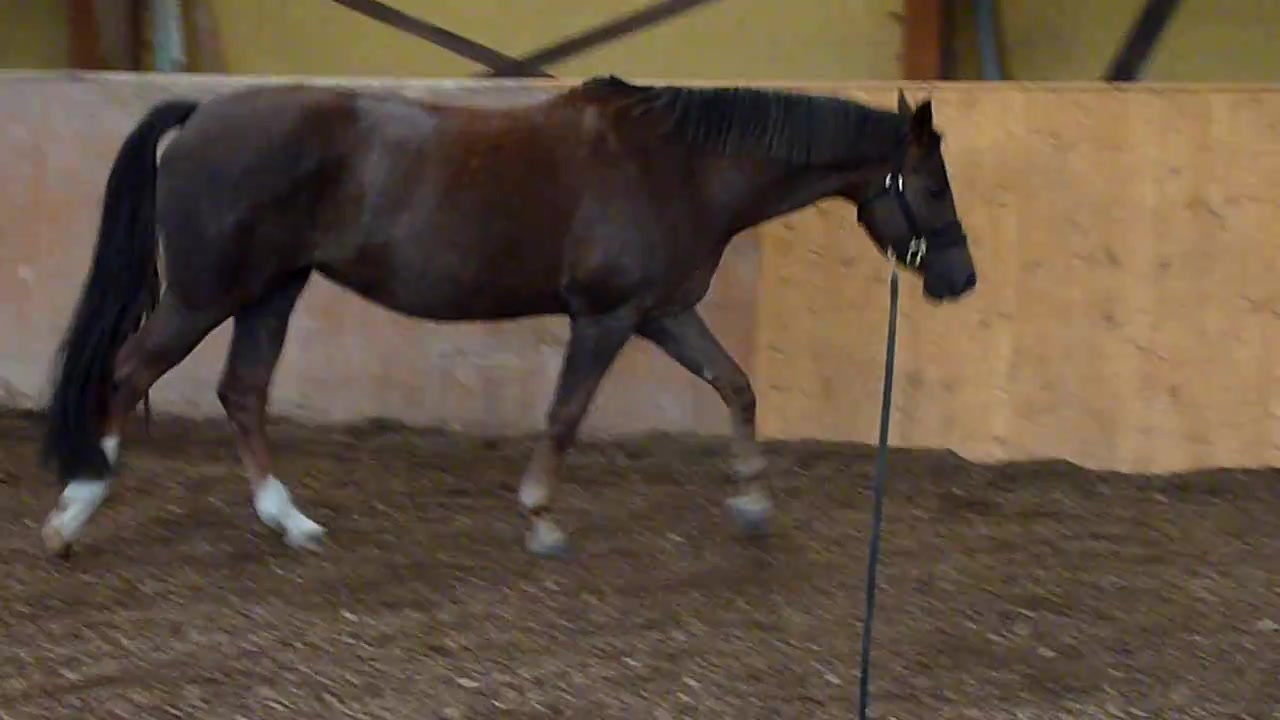horse: (35, 72, 982, 568)
